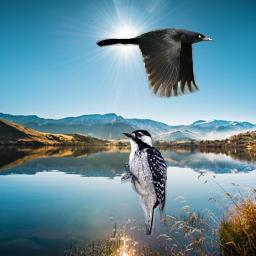Crow: (96, 27, 215, 99)
Woodpecker: (121, 129, 167, 235)
